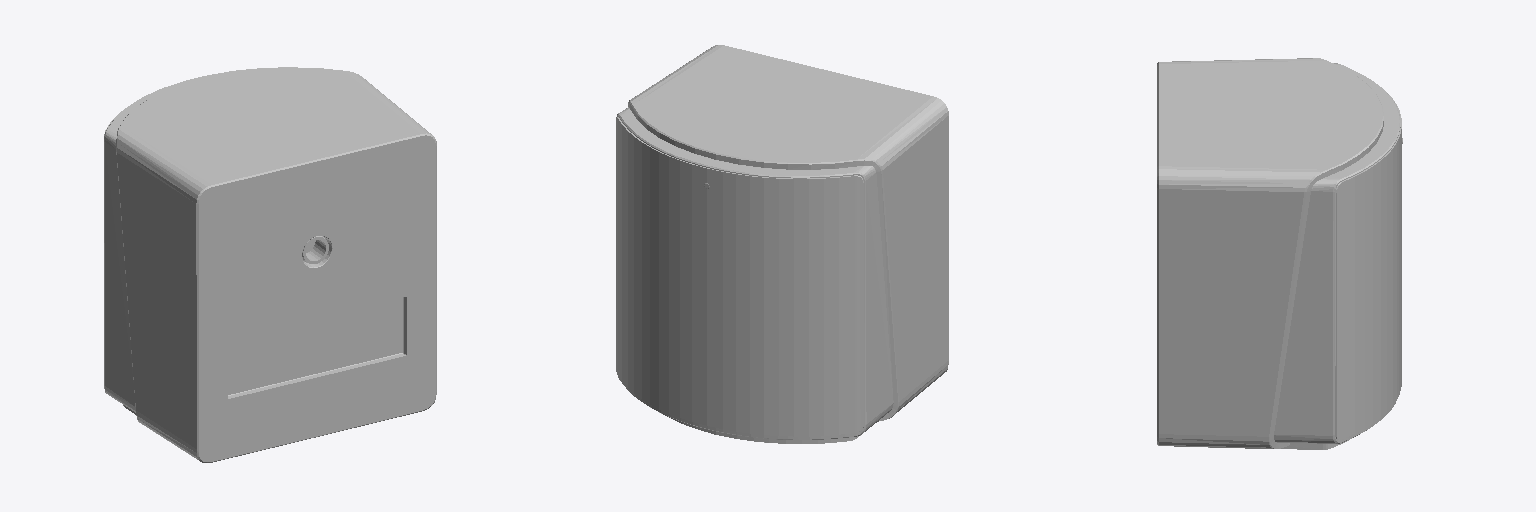
Rendered from hobovr_tracking_reference.obj.
The picture shows the model from 3 angles: view 1: azimuth 30°, elevation 25°; view 2: azimuth 150°, elevation 25°; view 3: azimuth 270°, elevation 25°; orthographic projection.
Parts seen in each view (by area): view 1: 0_shell; view 2: 0_shell; view 3: 0_shell.
Boxes of the visible parts, x1,y1,x2,y2 form: 0_shell: [104, 67, 436, 462]; 0_shell: [616, 45, 948, 443]; 0_shell: [1157, 58, 1402, 449].
Size of the model in its own units: 0.0756 by 0.08 by 0.0631.